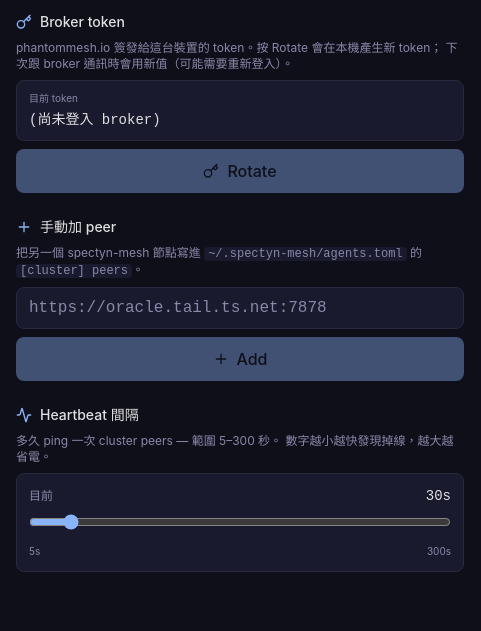
Scenario: <MobileNodeAdmin /> — manual peer add › rolls back optimistic insert when add_cluster_peer rejects
In the field with test id "peer-input": [240, 308] box [16,287,464,329], type "http://oracle.tail.ts.net:7878"
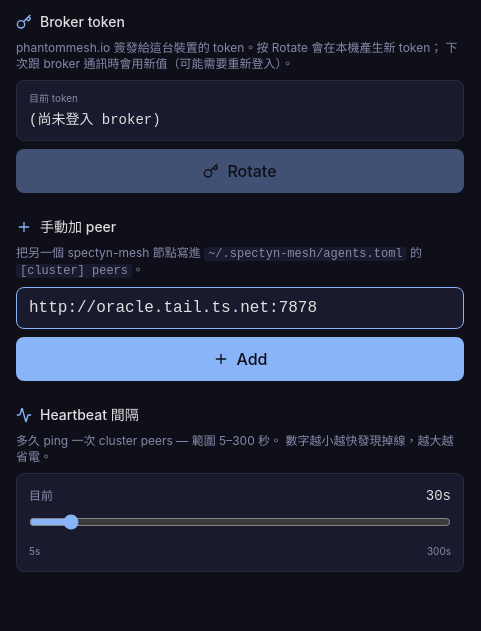
Click the button with test id "peer-add-button": [240, 359] box [16,337,464,381]
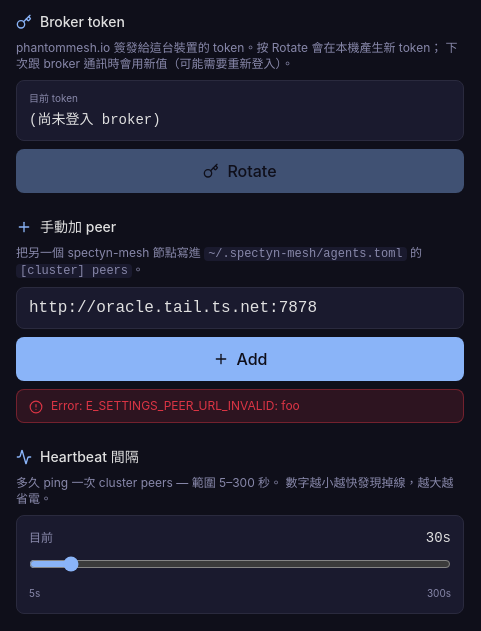
Result: the element with test id "peer-pill" shows "E_SETTINGS_PEER_URL_INVALID" at [51,398,300,413]
